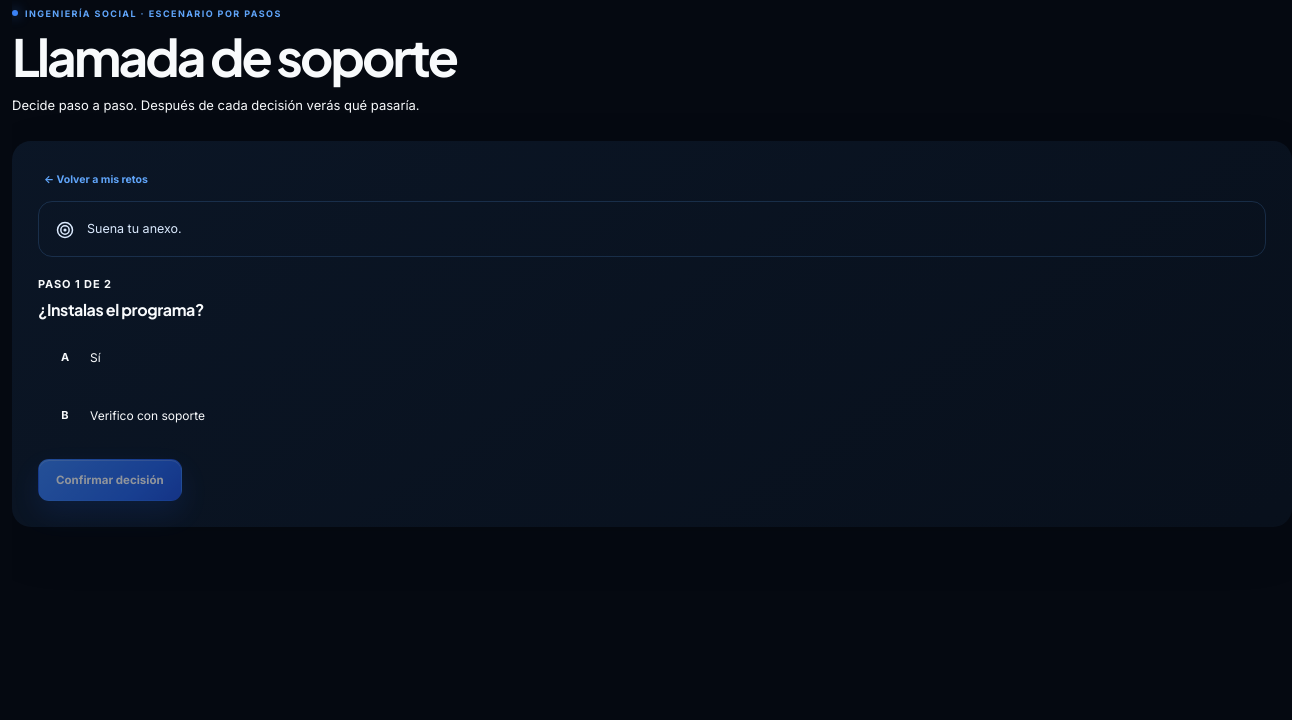
escenario por pasos › felicita cuando todas las decisiones son seguras
Click the radio button labelled "B Verifico con soporte". click: point(148, 416)
box: top-left (38, 391), bottom-right (1266, 441)
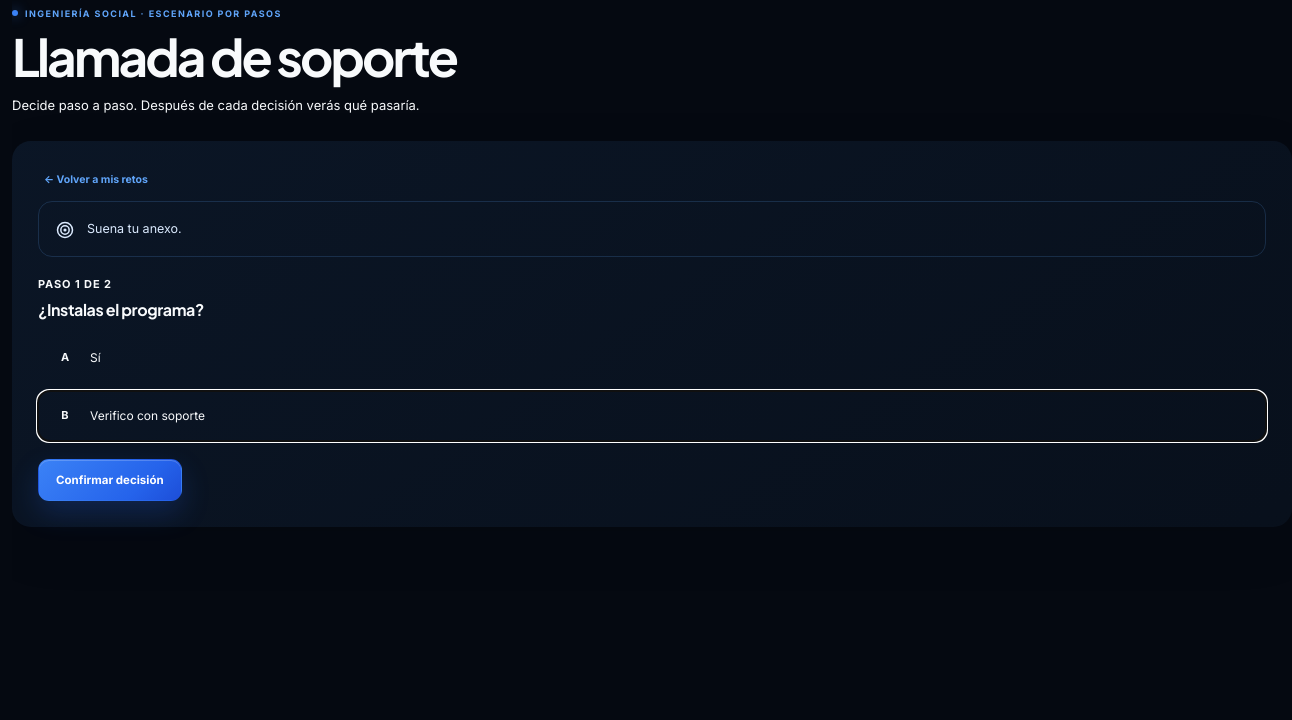
Click the button "Confirmar decisión". click: point(110, 480)
box: top-left (38, 459), bottom-right (182, 501)
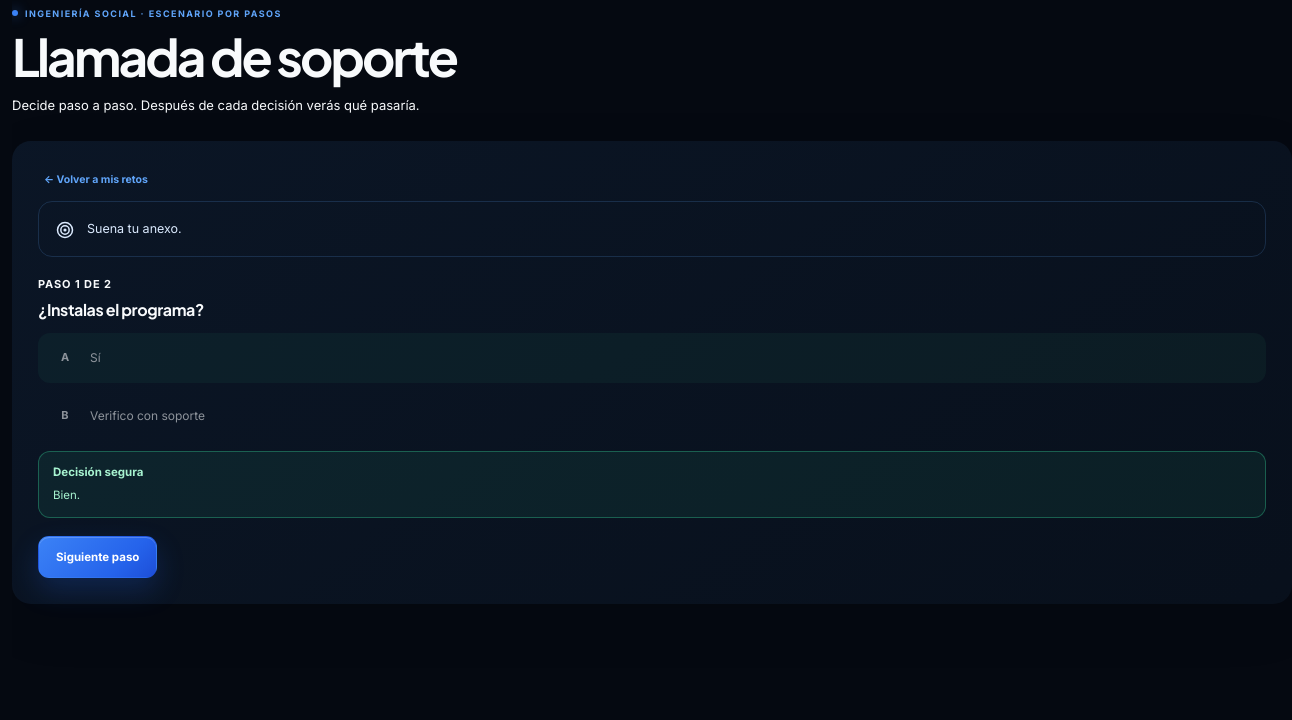
Click the button "Siguiente paso". click: point(98, 557)
box: top-left (38, 536), bottom-right (157, 578)
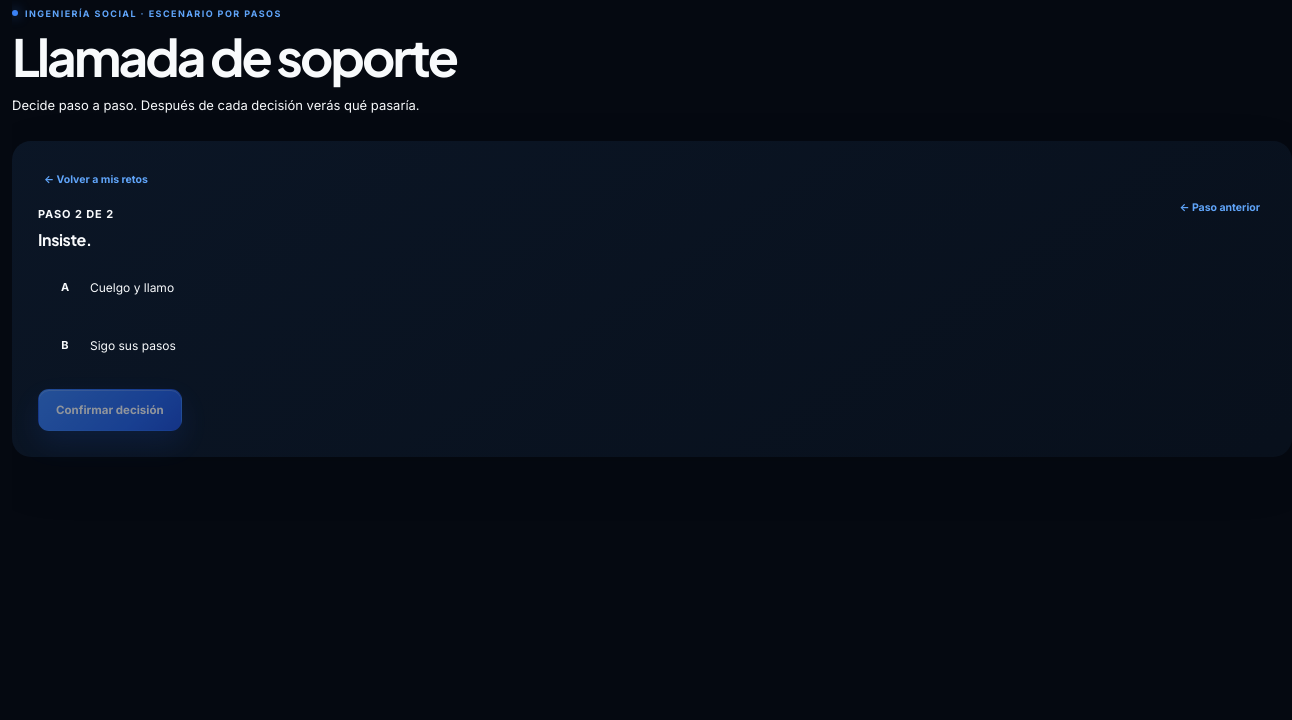
Click the radio button labelled "A Cuelgo y llamo". click: point(132, 288)
box: top-left (38, 263), bottom-right (1266, 313)
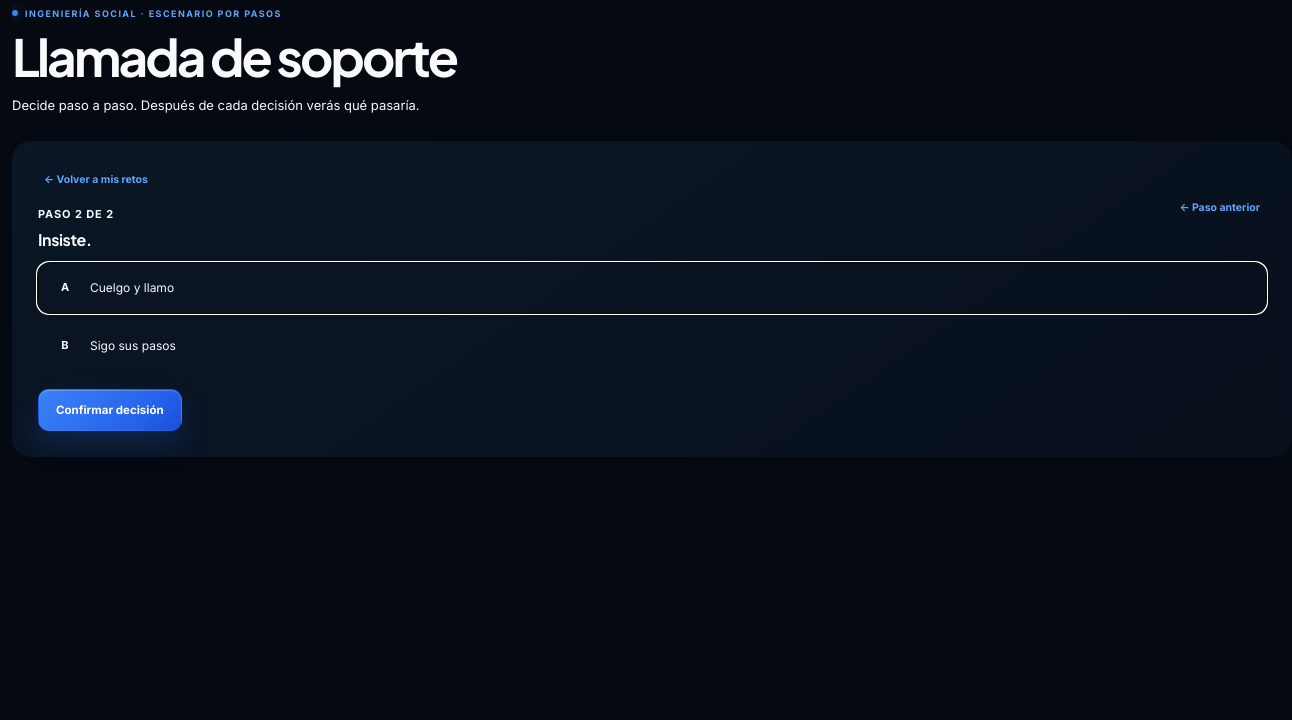
Click the button "Confirmar decisión". click: point(110, 410)
box: top-left (38, 389), bottom-right (182, 431)
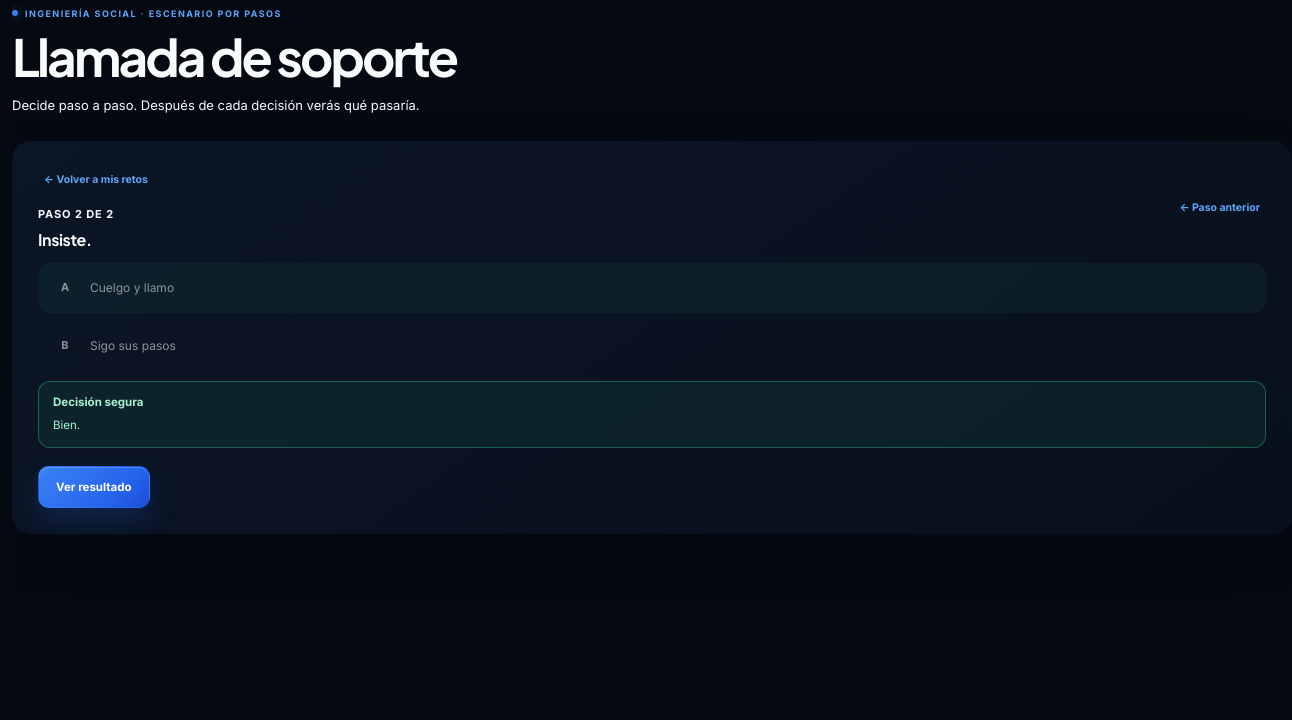
Click the button "Ver resultado". click: point(94, 487)
box: top-left (38, 466), bottom-right (150, 508)
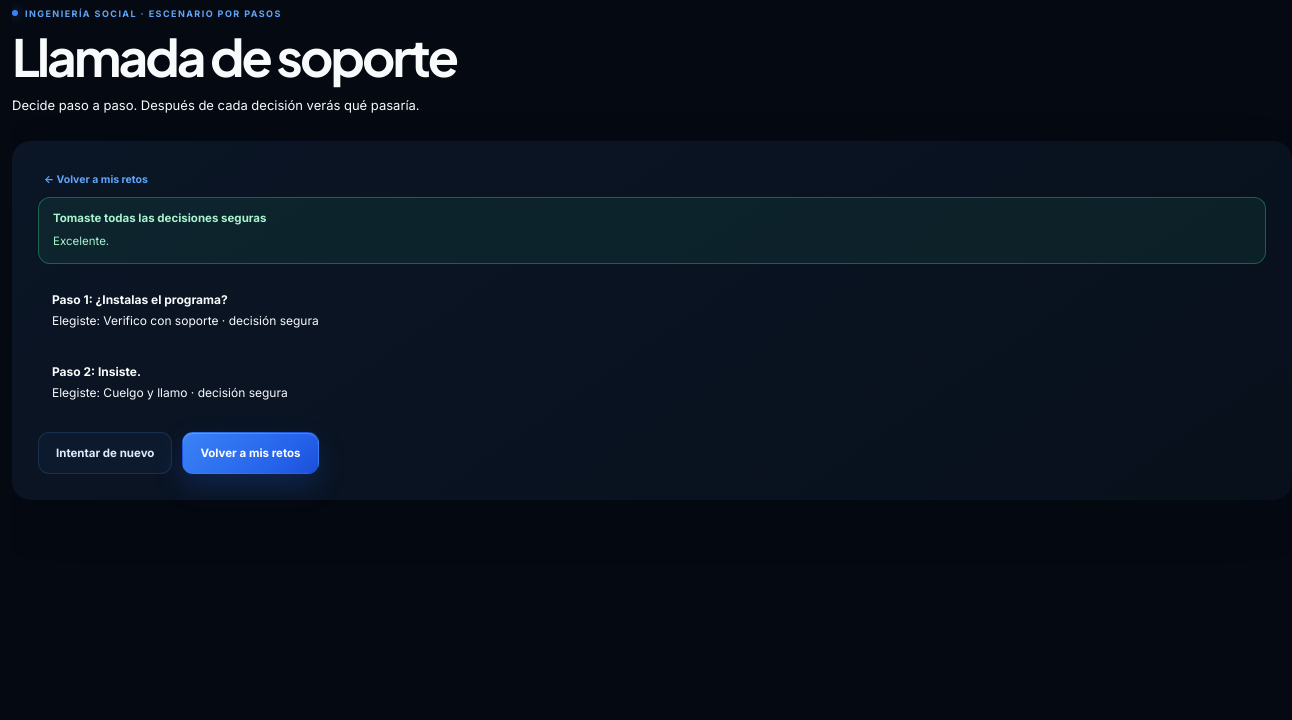
Check: the text "Tomaste todas las decisiones seguras" is shown, box top-left (53, 211), bottom-right (266, 225)
